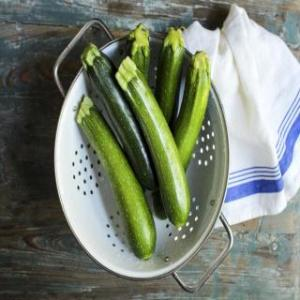zucchini: (127, 68, 188, 222)
